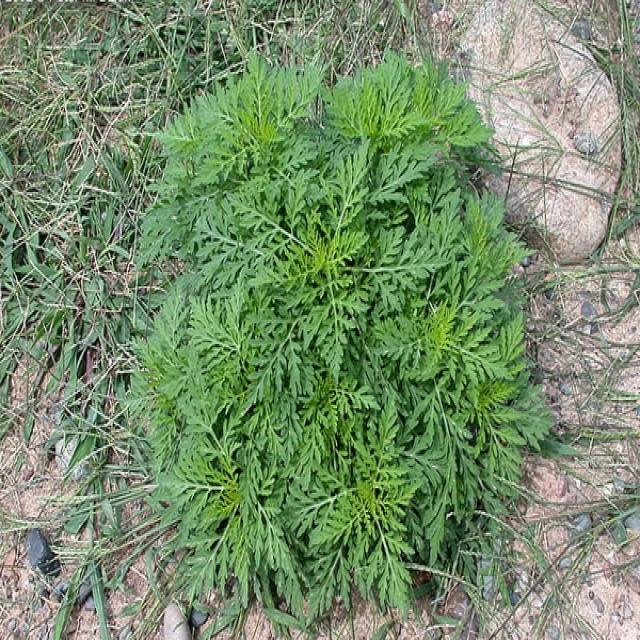ambrosia: (137, 333, 439, 587), (169, 52, 387, 324), (398, 60, 500, 344)
